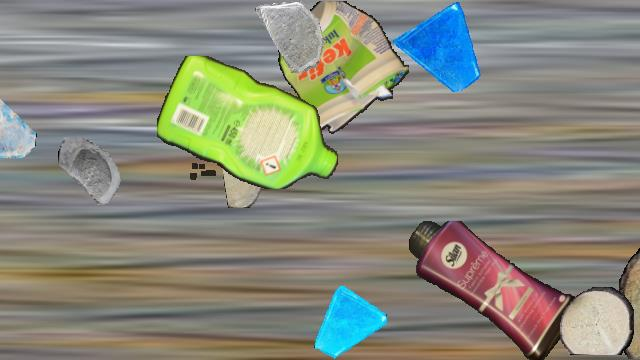glass: (393, 1, 483, 91), (57, 137, 133, 213), (312, 285, 386, 359), (255, 1, 327, 73), (0, 88, 37, 162)
plastic: (157, 56, 339, 188), (408, 221, 580, 359), (277, 1, 409, 139)
wood: (560, 287, 634, 355), (615, 227, 640, 359), (223, 134, 261, 208)
